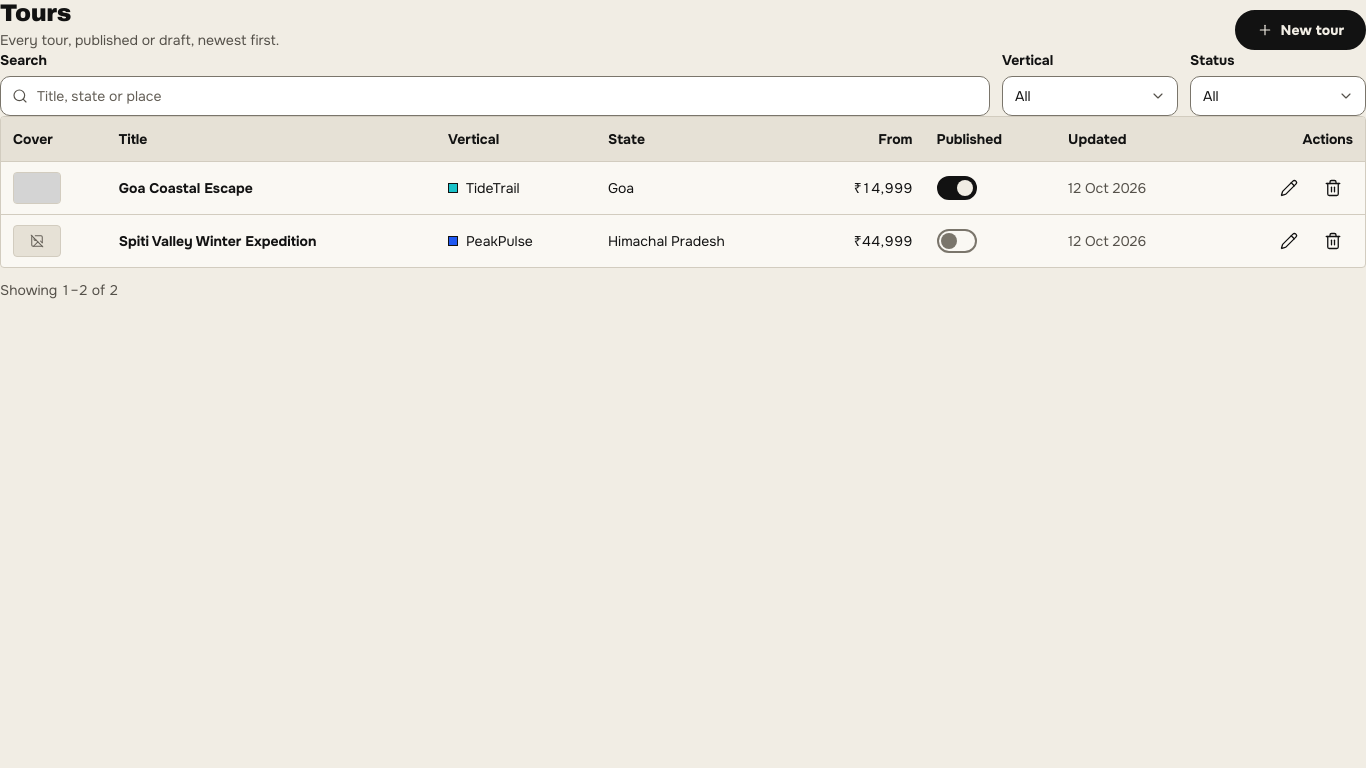
Test case: ToursPage › only explains when a draft with bookings cannot be deleted
The image size is (1366, 768).
Expected: the table named "Tours" is shown, x1=1 y1=117 x2=1365 y2=267
Expected: the text "Goa Coastal Escape" is shown, x1=107 y1=162 x2=436 y2=215
What coordinates should you click on to do the following:
click the button named "Delete Spiti Valley Winter Expedition"
I would click on:
 (1333, 241)
Its box is x1=1313 y1=221 x2=1353 y2=261.
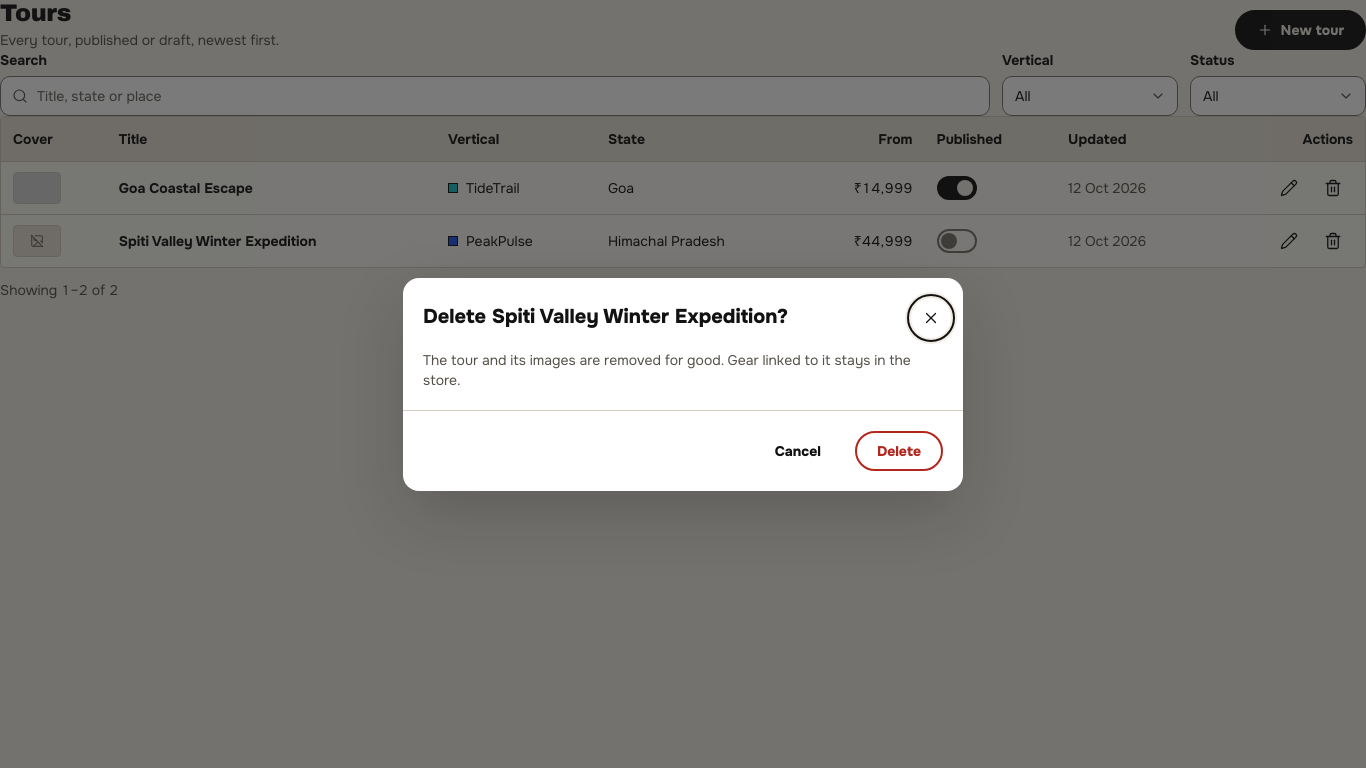
What coordinates should you click on to do the following:
click the button "Delete"
I would click on:
 (899, 450)
Its box is x1=855 y1=430 x2=943 y2=470.
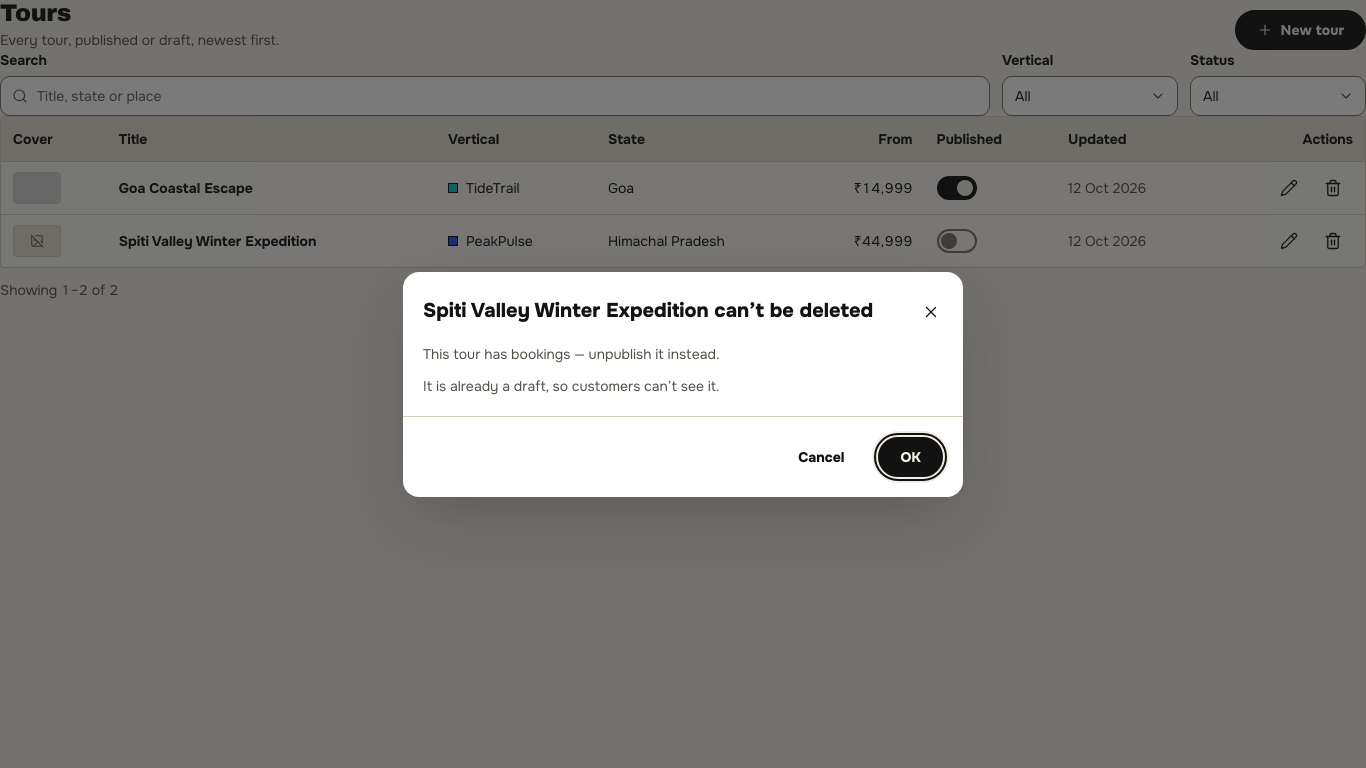
What coordinates should you click on to do the following:
click the button "OK"
I would click on:
 (911, 456)
Its box is x1=878 y1=436 x2=943 y2=476.
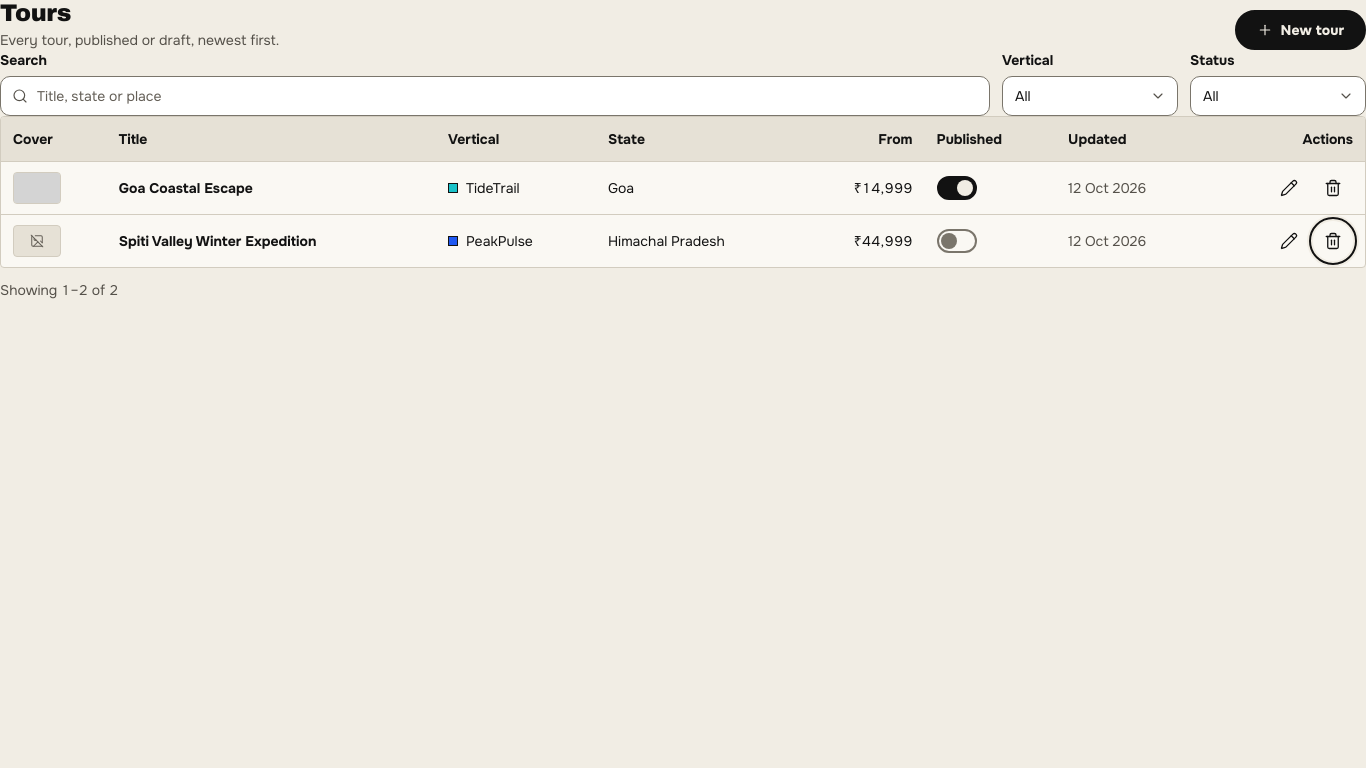
Now the dialog is gone
